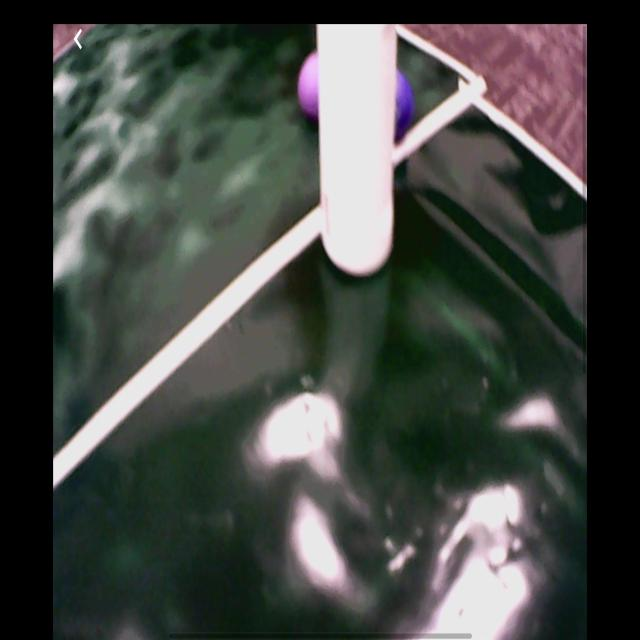ball: (396, 72, 416, 145), (300, 51, 319, 119)
